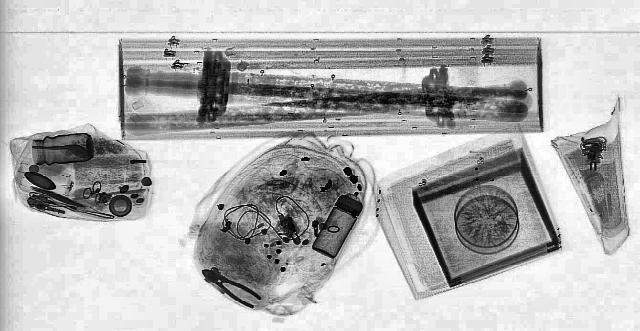Pliers: (192, 266, 270, 308)
